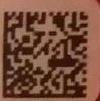datamatrix: (4, 12, 89, 99)
